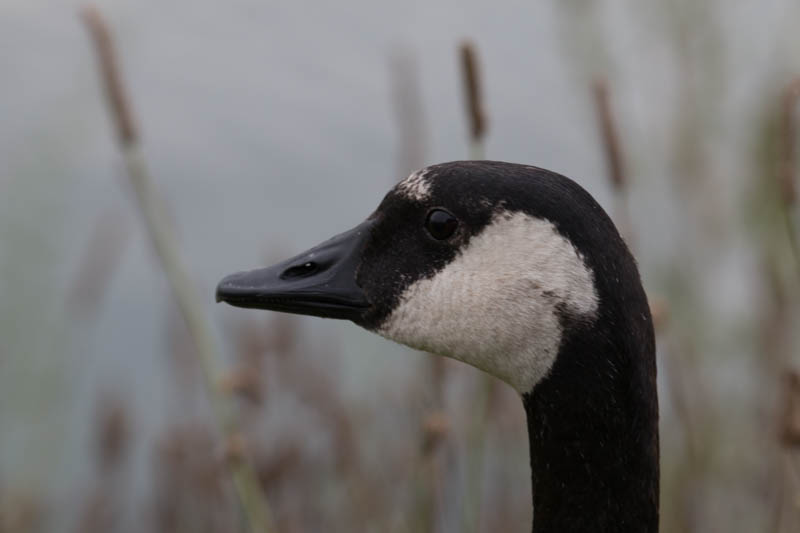goose-head: (215, 160, 659, 404)
